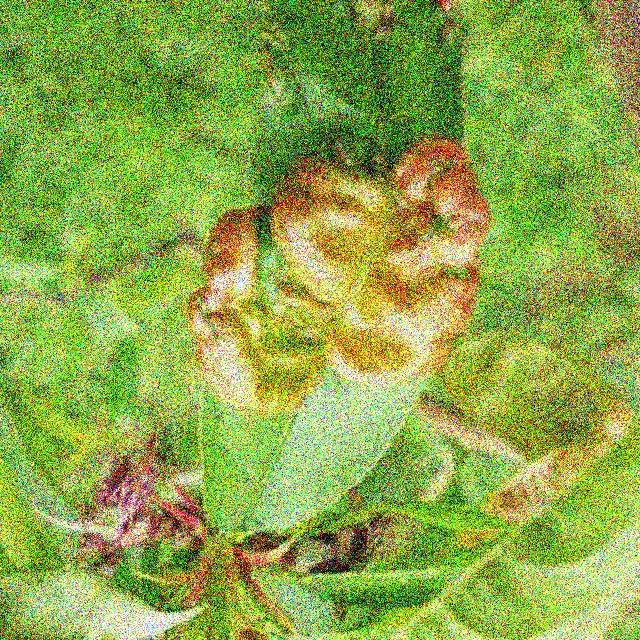leaf_curl: (186, 127, 487, 515)
